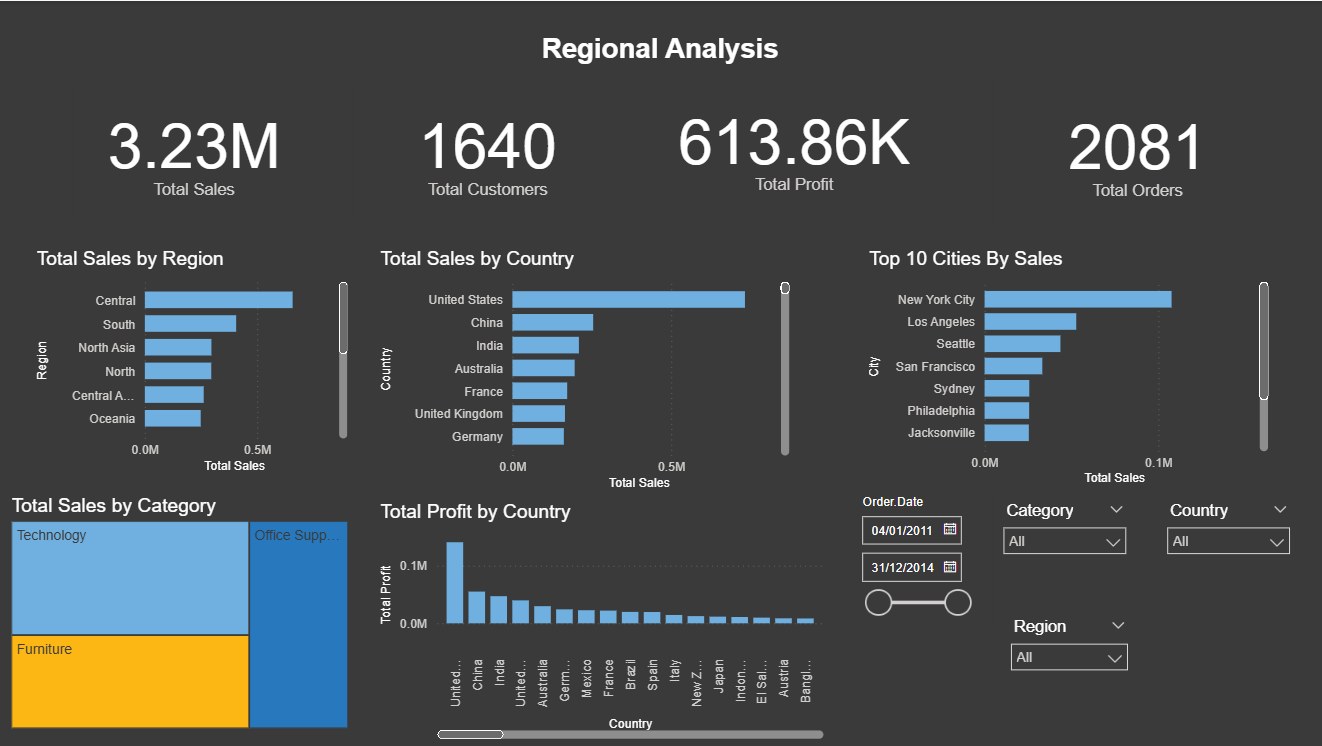

What the dashboard file says about the page in this screenshot:
{"tool":"powerbi","page":{"name":"Regional Analysis","canvas":[1280,720],"ordinal":4},"visuals":[{"type":"card","fields":{"Values":["Measures (2).Total Sales"]},"box":[71.4,78.2,234.6,131.7],"z":0},{"type":"card","fields":{"Values":["Measures (2).Total Profit"]},"box":[639.5,70,256.6,140],"z":1000},{"type":"card","fields":{"Values":["Measures (2).Total Orders"]},"box":[959.2,70,279.9,150.9],"z":2000},{"type":"card","fields":{"Values":["Measures (2).Total Customers"]},"box":[341.7,78.2,260.7,131.7],"z":3000},{"type":"clusteredBarChart","fields":{"Category":["superstore.Country"],"Y":["Measures (2).Total Sales"]},"box":[363.6,237.4,404.8,238.8],"z":4000},{"type":"columnChart","fields":{"Category":["superstore.Country"],"Y":["Measures (2).Total Profit"]},"box":[363.6,483,437.7,234.6],"z":5000},{"type":"clusteredBarChart","title":"Top 10 Cities By Sales","fields":{"Category":["superstore.City"],"Y":["Measures (2).Total Sales"]},"box":[834.3,237.4,395.2,234.6],"z":6000},{"type":"treemap","fields":{"Values":["Measures (2).Total Sales"],"Group":["superstore.Category"]},"box":[6.9,476.2,334.8,230.5],"z":7000},{"type":"slicer","fields":{"Values":["superstore.Category"]},"box":[959.2,477.5,138.6,123.5],"z":8000},{"type":"slicer","fields":{"Values":["superstore.Country"]},"box":[1117,477.5,138.6,115.3],"z":9000},{"type":"slicer","fields":{"Values":["superstore.Order.Date"]},"box":[820.6,472,126.2,234.6],"z":10000},{"type":"slicer","fields":{"Values":["superstore.Region"]},"box":[966,590.1,133.1,113.9],"z":11000},{"type":"clusteredBarChart","fields":{"Category":["superstore.Region"],"Y":["Measures (2).Total Sales"]},"box":[31.6,237.4,310.1,222.3],"z":12000},{"type":"textbox","box":[518.7,26.1,241.5,63.1],"z":13000}]}

Visuals, with their boxes in screenshot pixels (x1, y1, x2, y2), scaled from the page's 1280x720 canvas onto the 1322x746 screenshot:
card - Measures (2).Total Sales: [x1=74, y1=81, x2=316, y2=217]
card - Measures (2).Total Profit: [x1=660, y1=73, x2=926, y2=218]
card - Measures (2).Total Orders: [x1=991, y1=73, x2=1280, y2=229]
card - Measures (2).Total Customers: [x1=353, y1=81, x2=622, y2=217]
clusteredBarChart - superstore.Country x Measures (2).Total Sales: [x1=376, y1=246, x2=794, y2=493]
columnChart - superstore.Country x Measures (2).Total Profit: [x1=376, y1=500, x2=828, y2=744]
"Top 10 Cities By Sales" clusteredBarChart: [x1=862, y1=246, x2=1270, y2=489]
treemap - Measures (2).Total Sales x superstore.Category: [x1=7, y1=493, x2=353, y2=732]
slicer - superstore.Category: [x1=991, y1=495, x2=1134, y2=623]
slicer - superstore.Country: [x1=1154, y1=495, x2=1297, y2=614]
slicer - superstore.Order.Date: [x1=848, y1=489, x2=978, y2=732]
slicer - superstore.Region: [x1=998, y1=611, x2=1135, y2=729]
clusteredBarChart - superstore.Region x Measures (2).Total Sales: [x1=33, y1=246, x2=353, y2=476]
textbox: [x1=536, y1=27, x2=785, y2=92]
